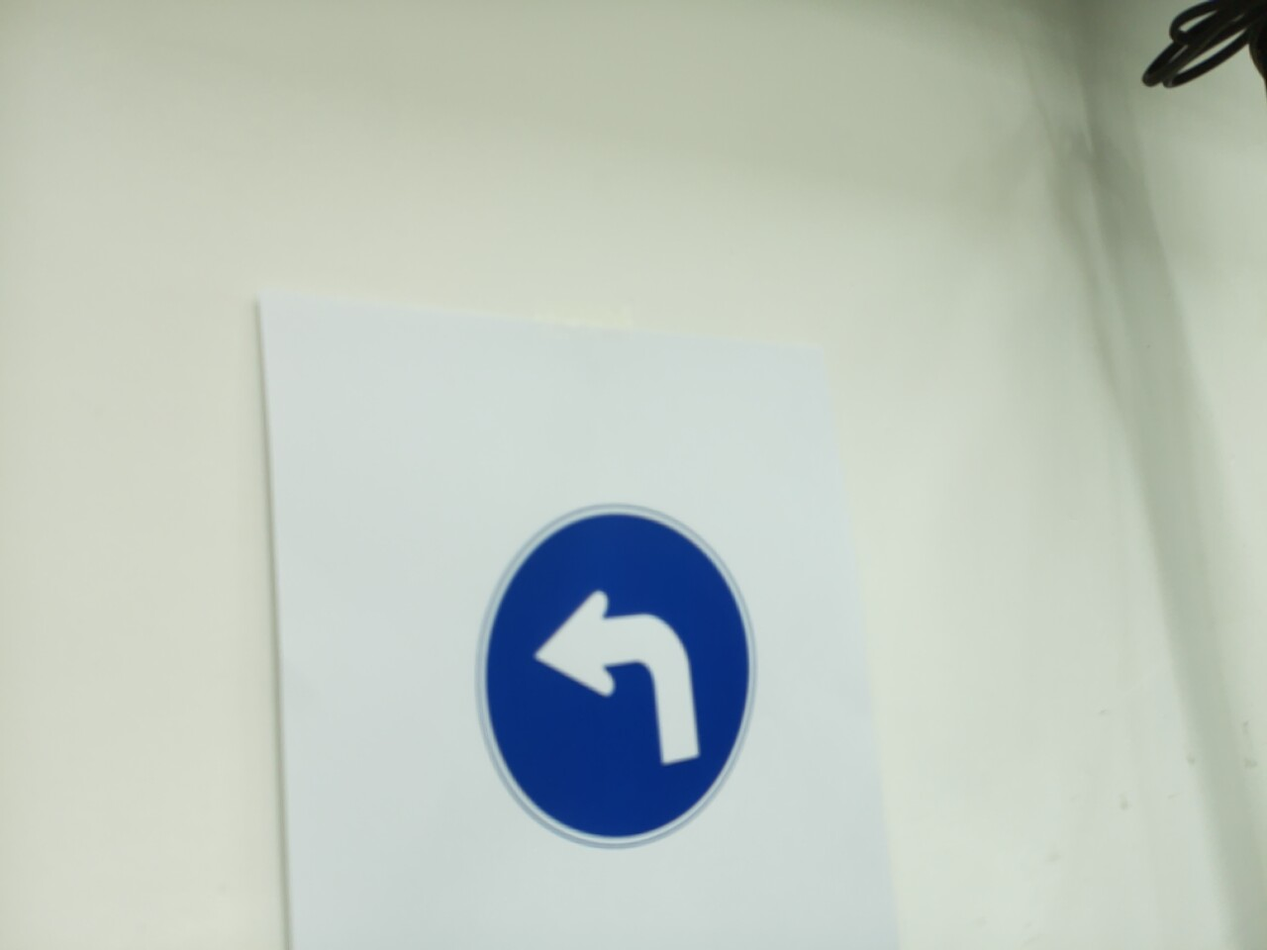left_turn: (477, 504, 758, 848)
